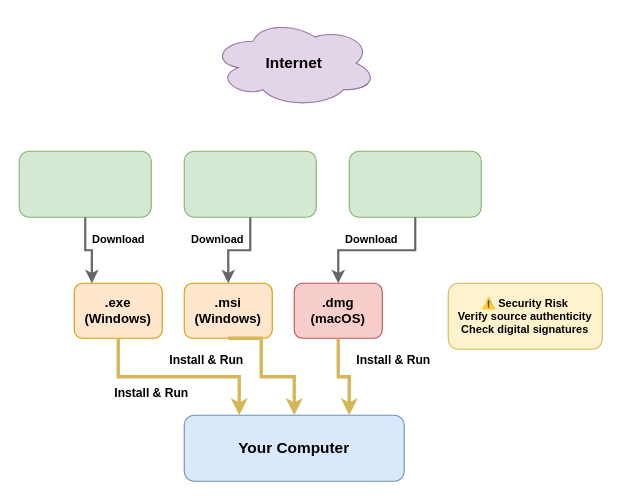
Image size: 622x501. Some labels were removed from this diagram. Here are the shapes that lost their labels. From the top down, the box of each, then its label:
(18, 150, 151, 217): Official Website (chrome.google.com)
(183, 150, 316, 217): Software Repository (github.com)
(348, 150, 481, 217): Download Portal (download.com)
